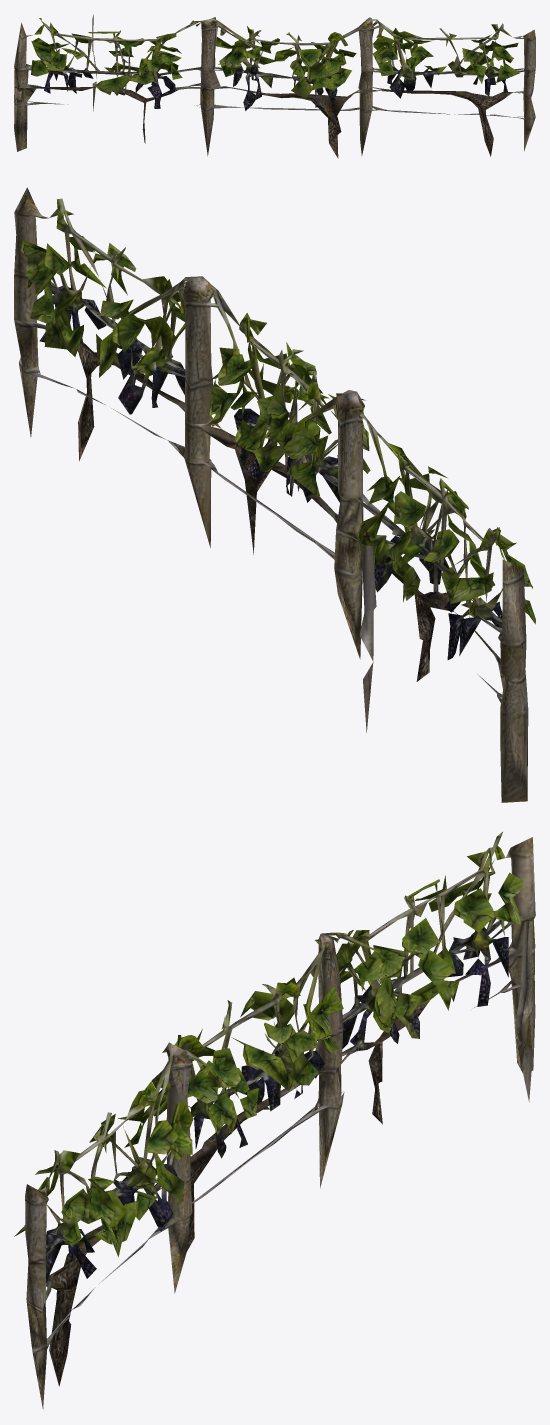
Rendered from prop_vine_row.glb.
The picture shows the model from 3 angles, top to bottom: view 1: azimuth 30°, elevation 25°; view 2: azimuth 150°, elevation 25°; view 3: azimuth 270°, elevation 25°; orthographic projection. The views are drawn at different scales.
Parts seen in each view (by area): view 1: tripo_node_aeeffdb6-0d55-40c2-b168-4ca742865816; view 2: tripo_node_aeeffdb6-0d55-40c2-b168-4ca742865816; view 3: tripo_node_aeeffdb6-0d55-40c2-b168-4ca742865816.
Boxes of the visible parts, x1,y1,x2,y2 form: tripo_node_aeeffdb6-0d55-40c2-b168-4ca742865816: (14, 14, 535, 158); tripo_node_aeeffdb6-0d55-40c2-b168-4ca742865816: (14, 187, 535, 802); tripo_node_aeeffdb6-0d55-40c2-b168-4ca742865816: (14, 832, 535, 1409).
Bounding box in the file's own units: 0.9767 × 0.3322 × 0.6039.
1 material, 1 textured.
